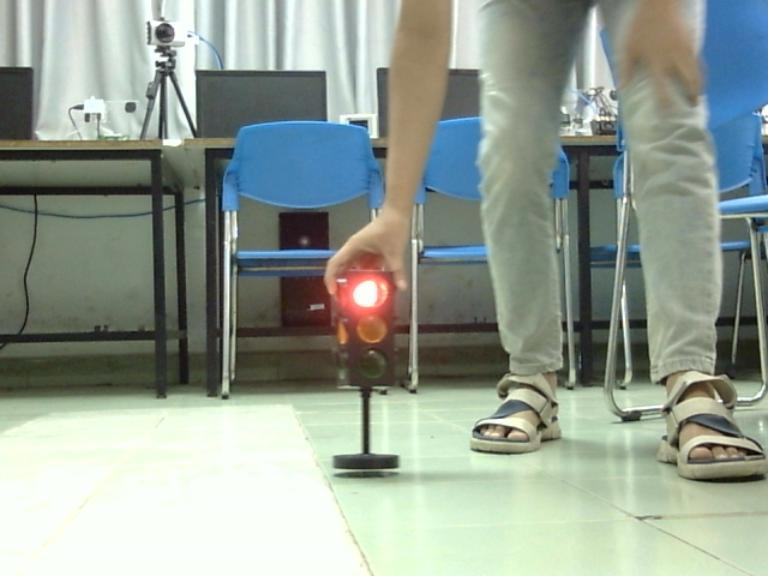red: (349, 276, 391, 308)
